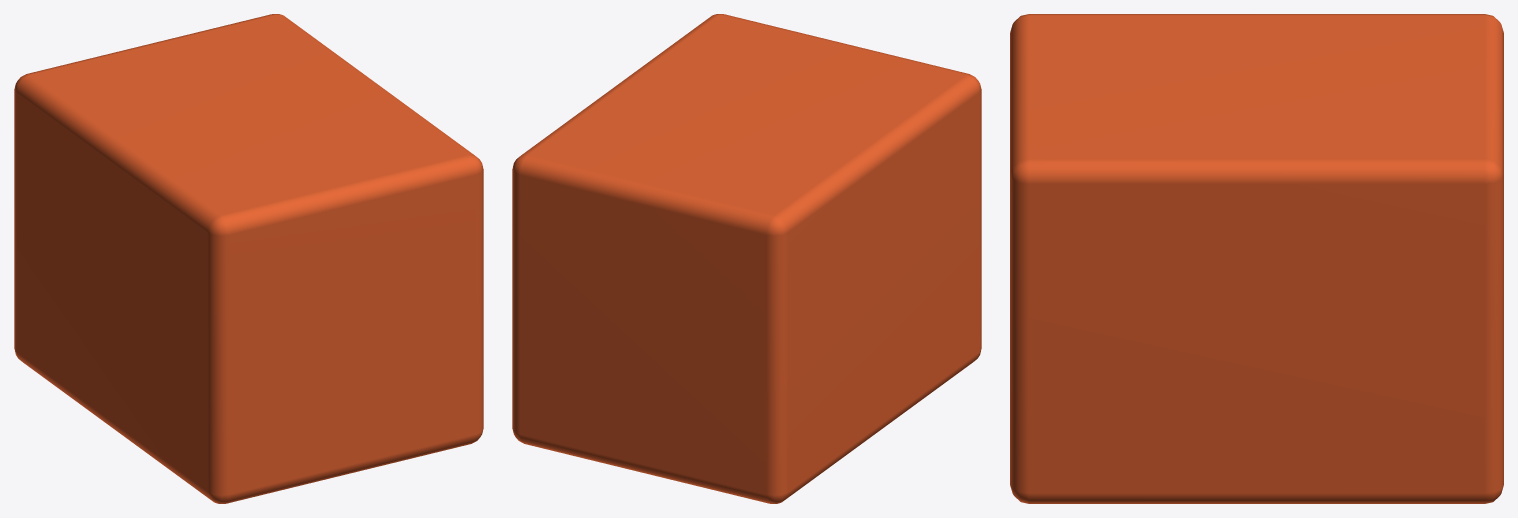
3 renders of one model, left to right at view 1: azimuth 30°, elevation 25°; view 2: azimuth 150°, elevation 25°; view 3: azimuth 270°, elevation 25°, orthographic. The views are drawn at different scales.
Parts seen in each view (by area): view 1: Box_02; view 2: Box_02; view 3: Box_02.
Part boxes in pixels (x1,y1,x2,y2): Box_02: (14, 14, 483, 503); Box_02: (512, 14, 981, 503); Box_02: (1010, 14, 1503, 503).
Size of the model in its own units: 28.45 by 28.6 by 37.28.
